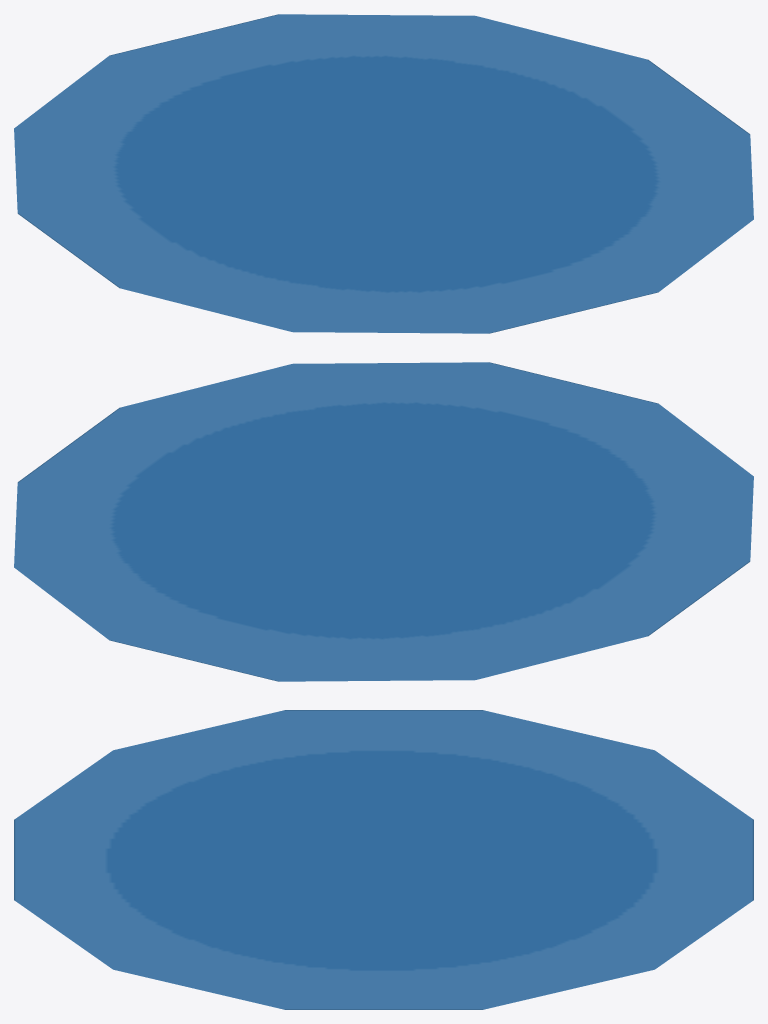
File: carpet_circle.fbx
3 renders of one model, top to bottom at view 1: azimuth 30°, elevation 25°; view 2: azimuth 150°, elevation 25°; view 3: azimuth 270°, elevation 25°, orthographic. The views are drawn at different scales.
Visible parts, largest first — view 1: circle; view 2: circle; view 3: circle.
Boxes of the visible parts, box(x1,y1,x2,y2) form: circle: box(14, 14, 753, 333); circle: box(14, 362, 753, 681); circle: box(14, 710, 753, 1009).
Size of the model in its own units: 288 by 0 by 300.
1 material, 1 textured.
